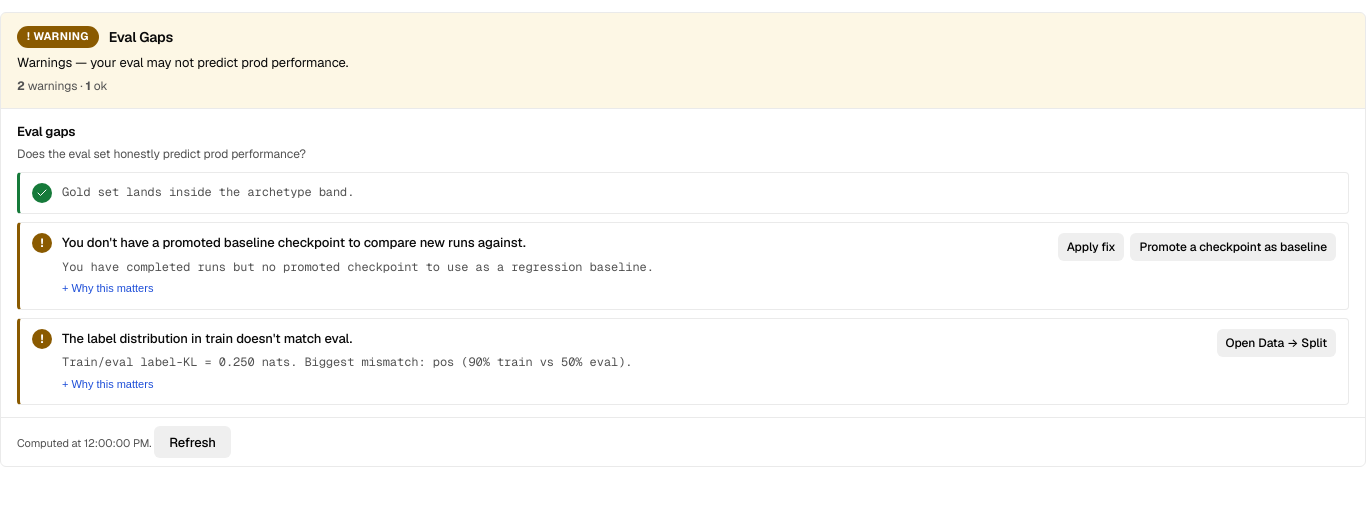
Test: EvalGapsPanel › toggles why-this-matters for a signal that carries one
The width and height of the screenshot is (1366, 519).
Click the button with test id "eval-gaps-why-eval_gaps.no_regression_baseline": coordinates (108, 288) [62,282,153,294]
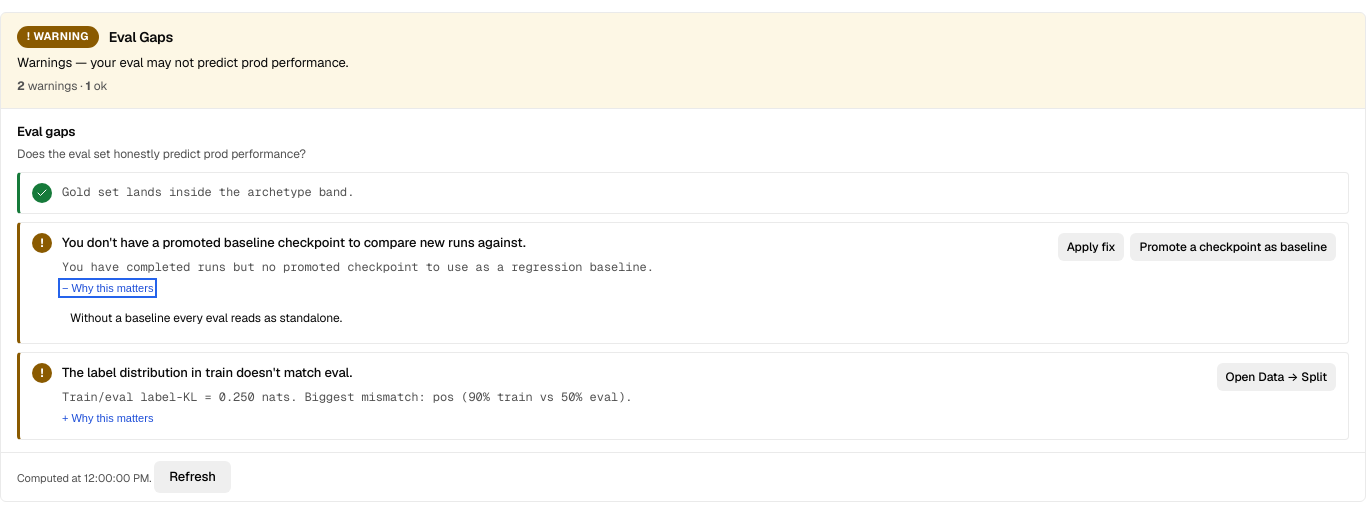
Check: the text with test id "eval-gaps-why-text-eval_gaps.no_regression_baseline" shows "standalone", box [70,310,342,326]
